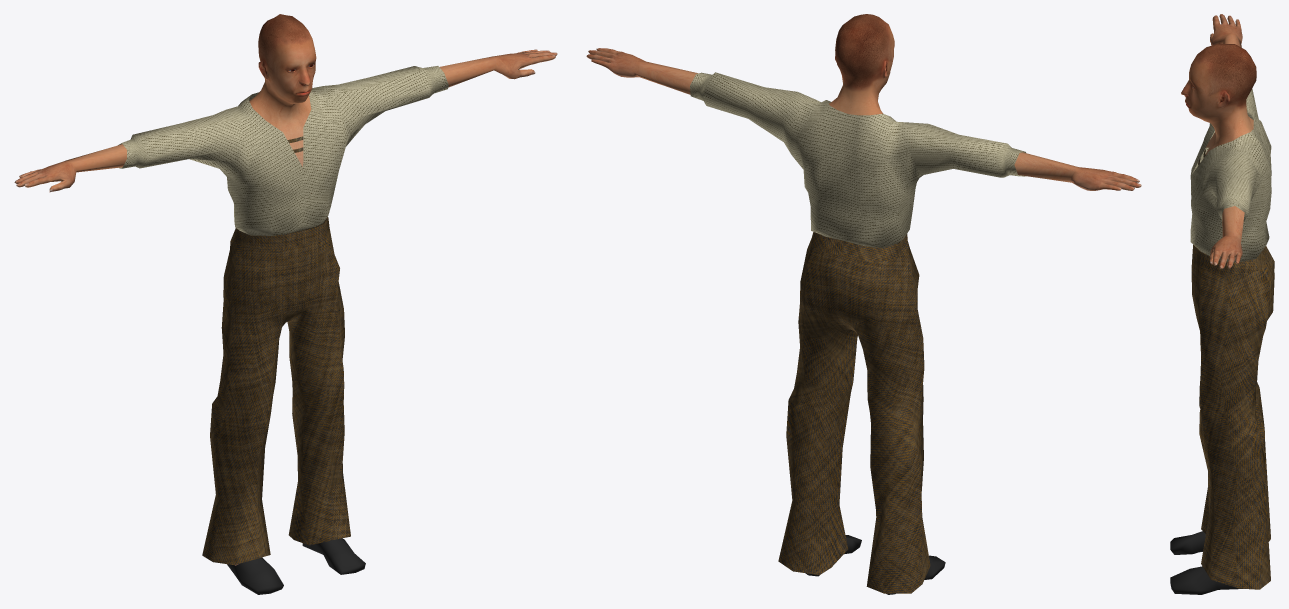
File: Civil_Homem 1.2.fbx
3 renders of one model, left to right at view 1: azimuth 30°, elevation 25°; view 2: azimuth 150°, elevation 25°; view 3: azimuth 270°, elevation 25°, orthographic. The views are drawn at different scales.
Parts seen in each view (by area): view 1: Roupa, Corpo; view 2: Roupa, Corpo; view 3: Roupa, Corpo.
Boxes of the visible parts, <box> form: Roupa: <box>118,66,448,594</box>; Corpo: <box>14,14,557,565</box>; Roupa: <box>690,72,1025,594</box>; Corpo: <box>586,14,1141,190</box>; Roupa: <box>1170,89,1274,594</box>; Corpo: <box>1181,14,1256,268</box>.
Bounding box in the file's own units: 195 × 188 × 33.95.
3 materials, 3 textured.
